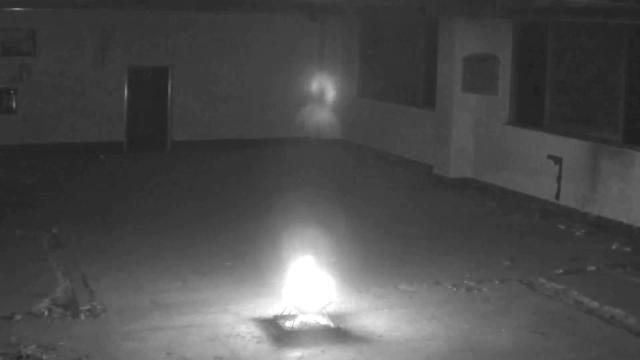fire: (280, 254, 340, 300)
smoke: (296, 62, 346, 128)
